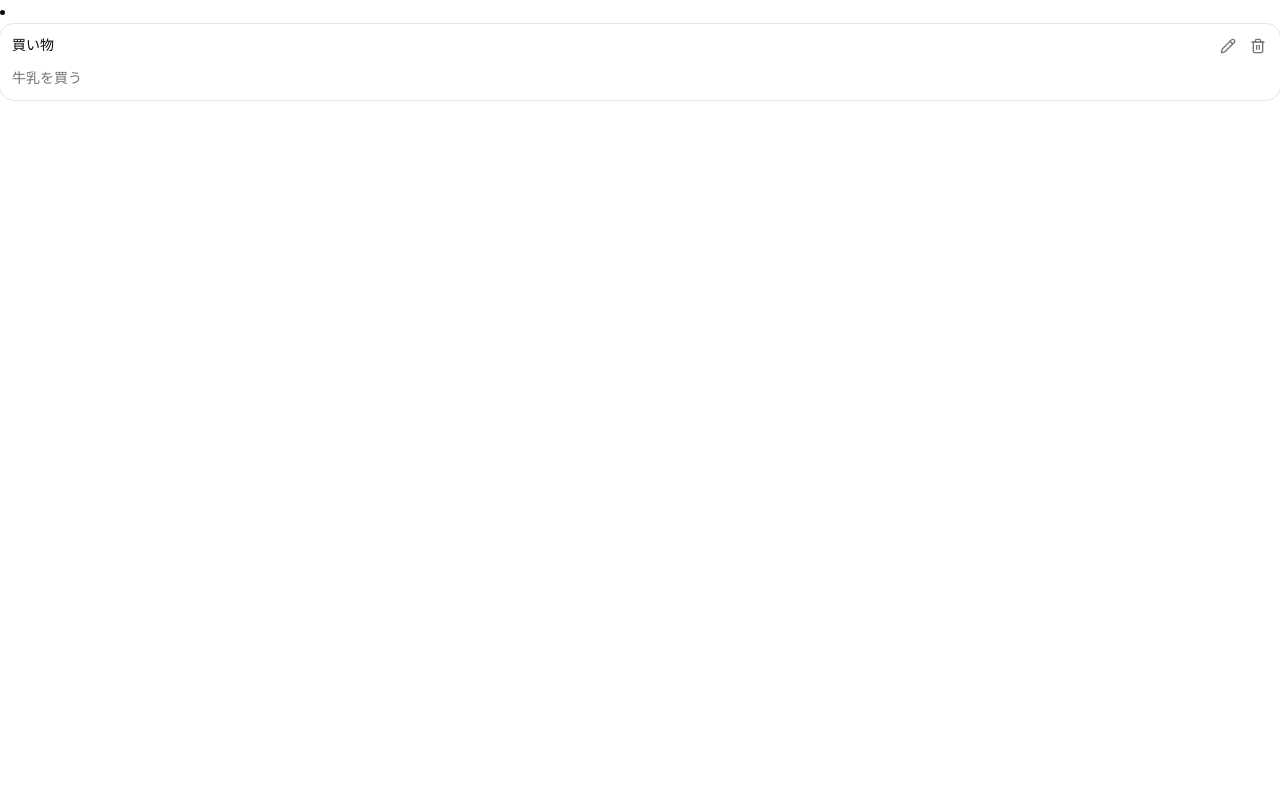
Test: TaskCard 削除 › 削除ボタンを押すと、タスク名入りの確認ダイアログが表示され、まだ削除されない
Click the button named "「買い物」を削除". click: (1258, 46)
box: [1244,32,1272,60]
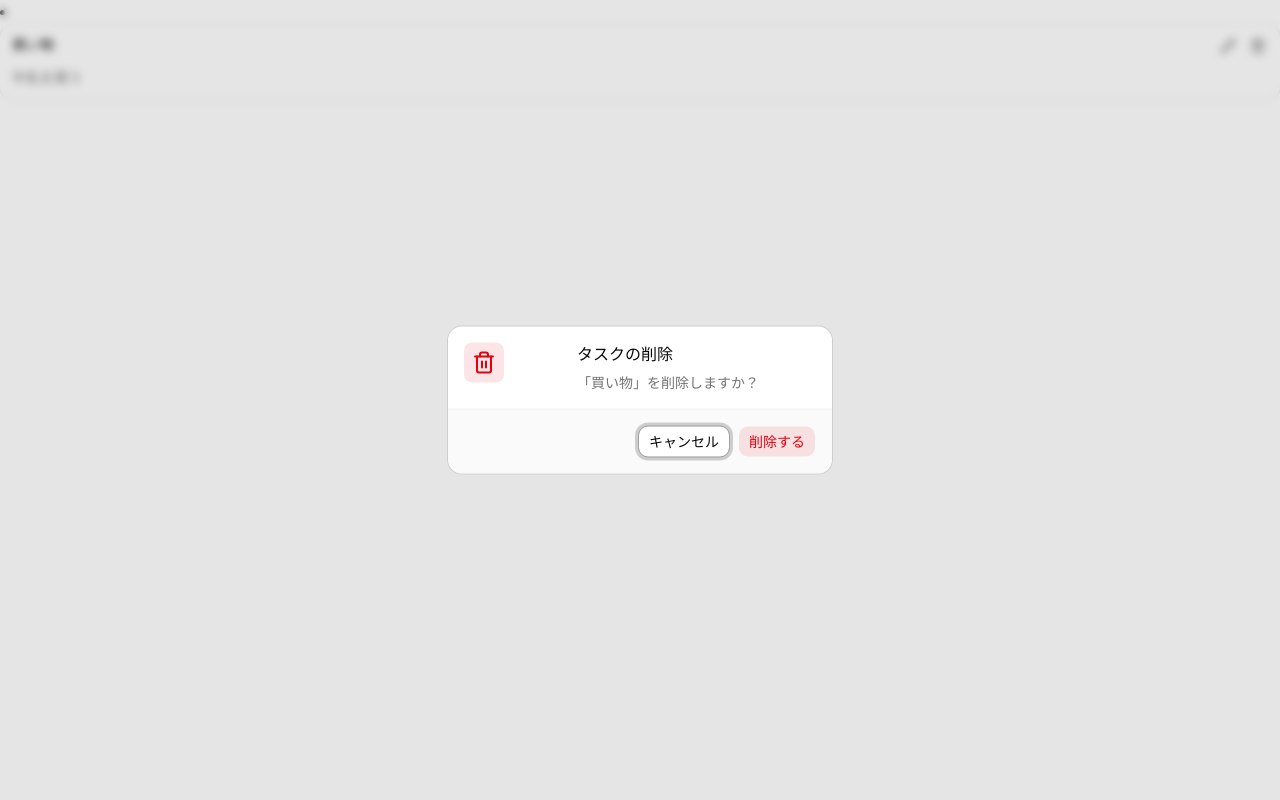
Expected: the dialog "タスクの削除" shows "「買い物」を削除しますか？", [577,374,759,392]
